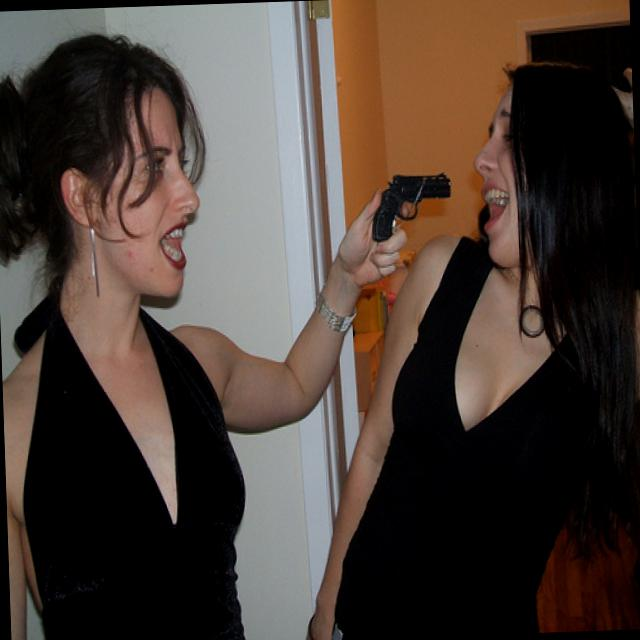handgun: (368, 164, 451, 246)
